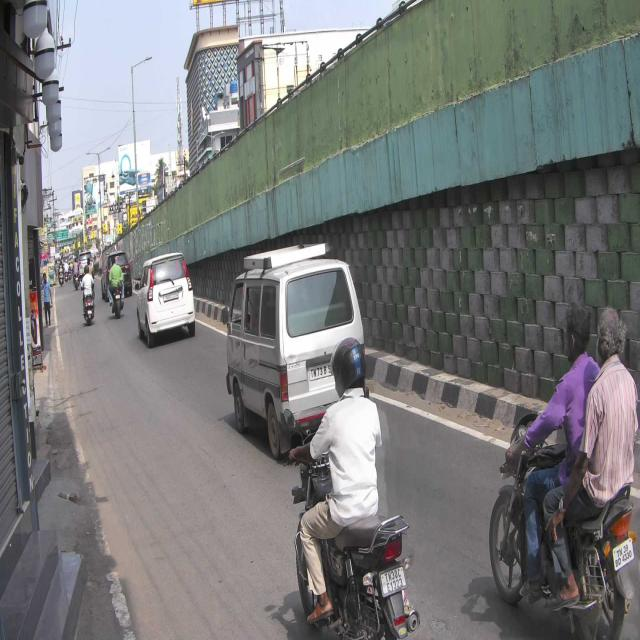double_rider: (488, 299, 640, 640)
single_rider: (284, 332, 422, 640)
